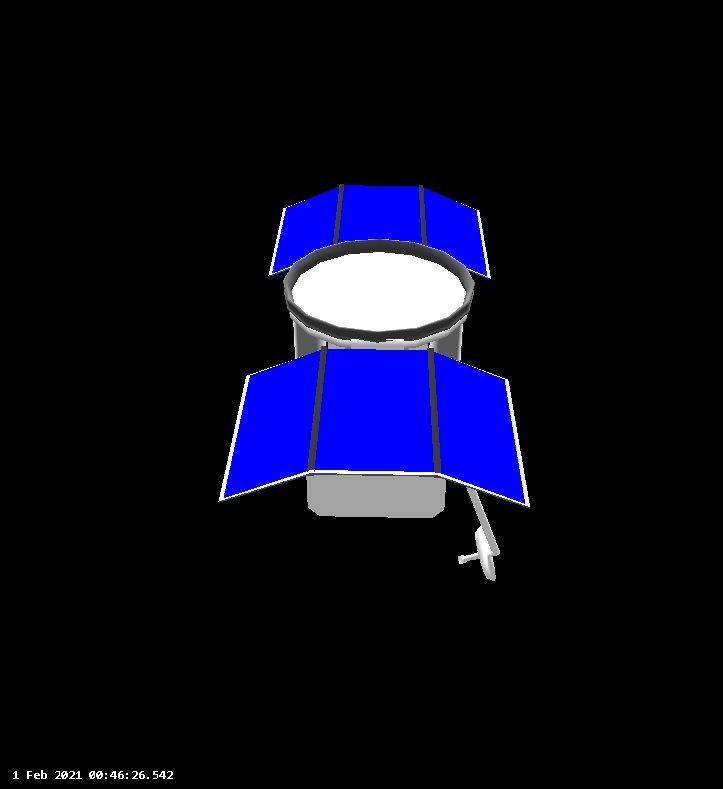antenna: (455, 525, 501, 583)
body: (283, 233, 471, 523)
solar: (215, 343, 534, 508), (268, 180, 493, 280)
